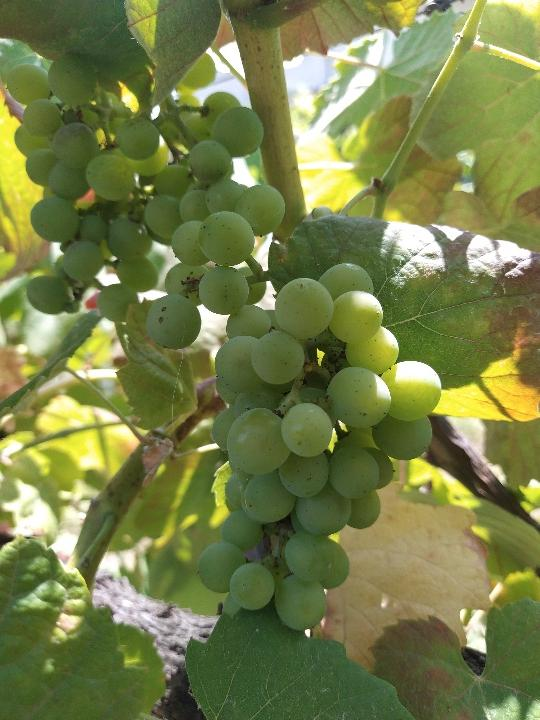grape: (197, 261, 443, 632), (94, 92, 286, 354)
